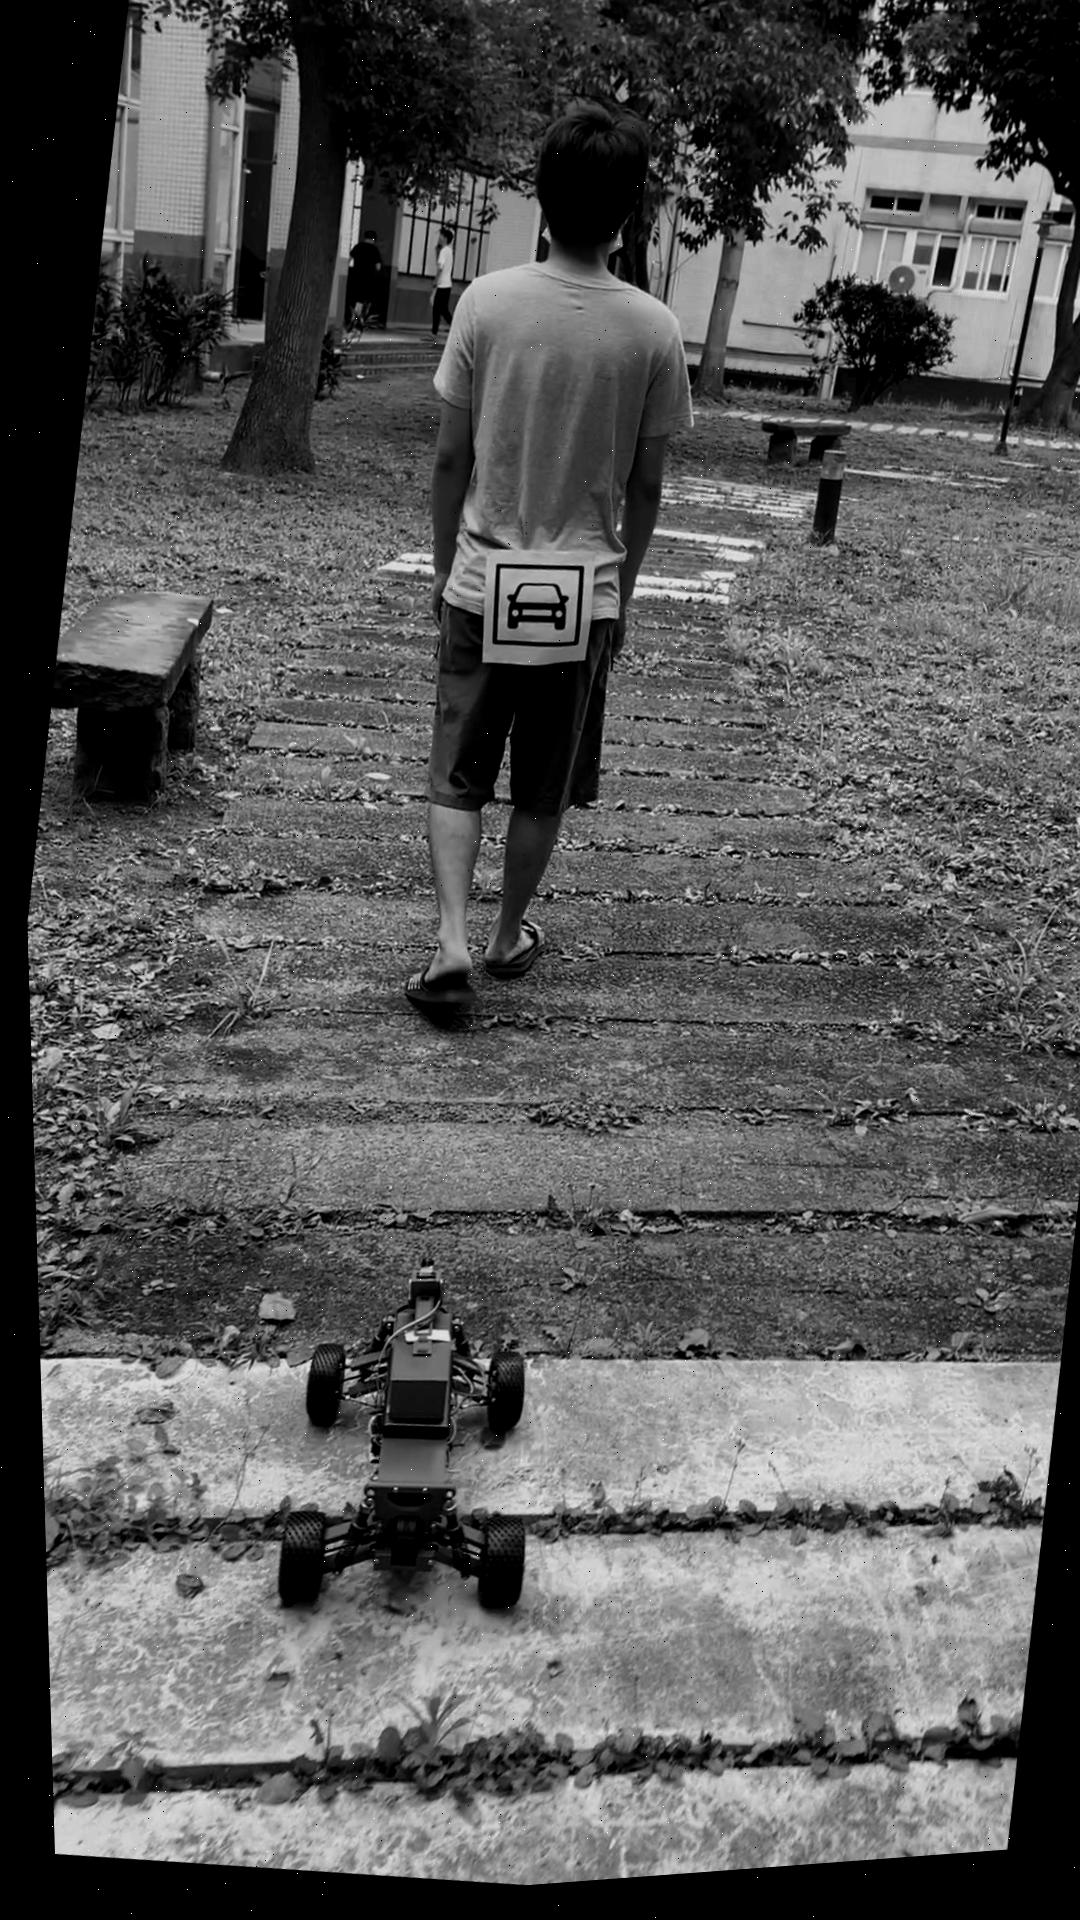car_img: (480, 560, 585, 663)
